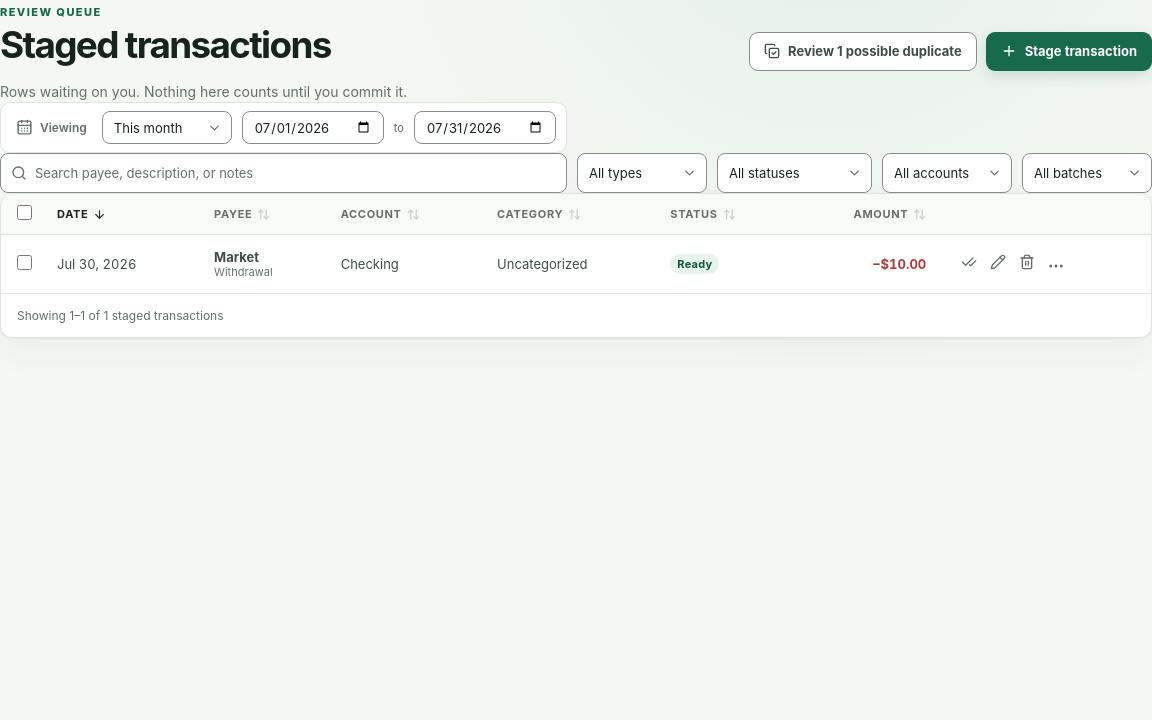
Test: editing staged rows in bulk › asks for an account when the field is on and none is chosen
Check: the text "Market" is shown, box [214,249,259,265]
Click the checkbox named "Select Market": {"x": 24, "y": 263} [16,255,32,270]
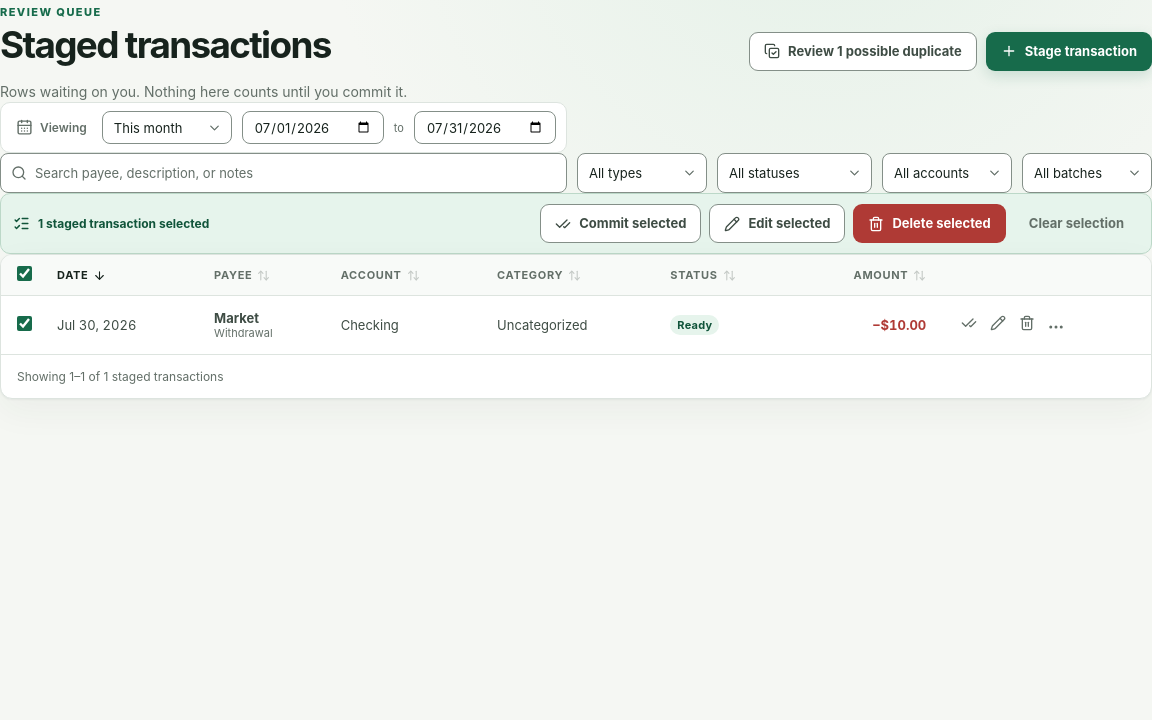
Click the button "Edit selected": {"x": 777, "y": 224} [709,204,845,243]
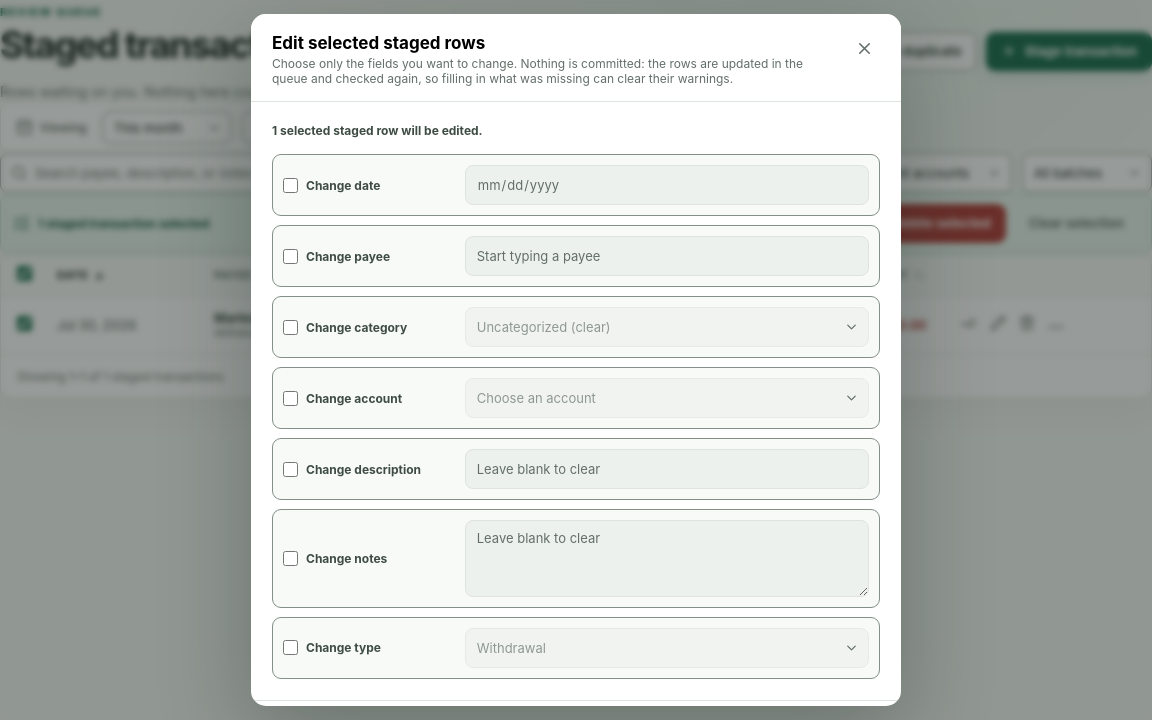
Click the text "Change account": {"x": 354, "y": 398} [306,390,402,406]
(page scrolled)
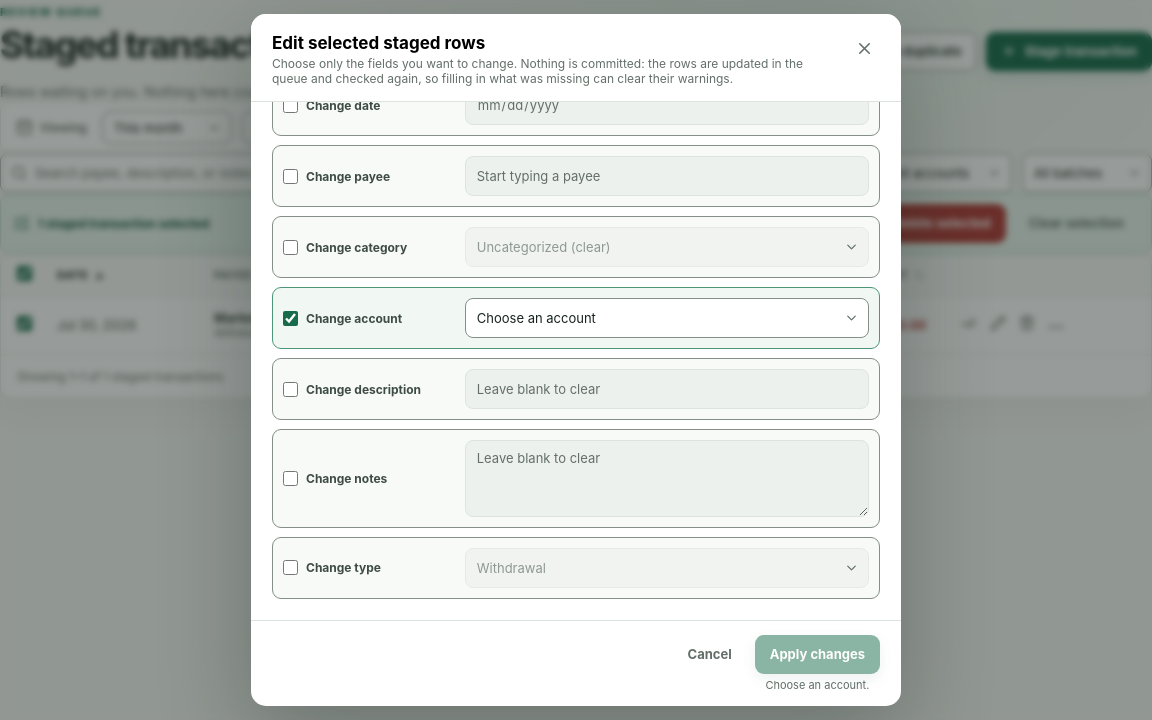
Check: the button "Apply changes" is disabled, box [755,634,880,674]
